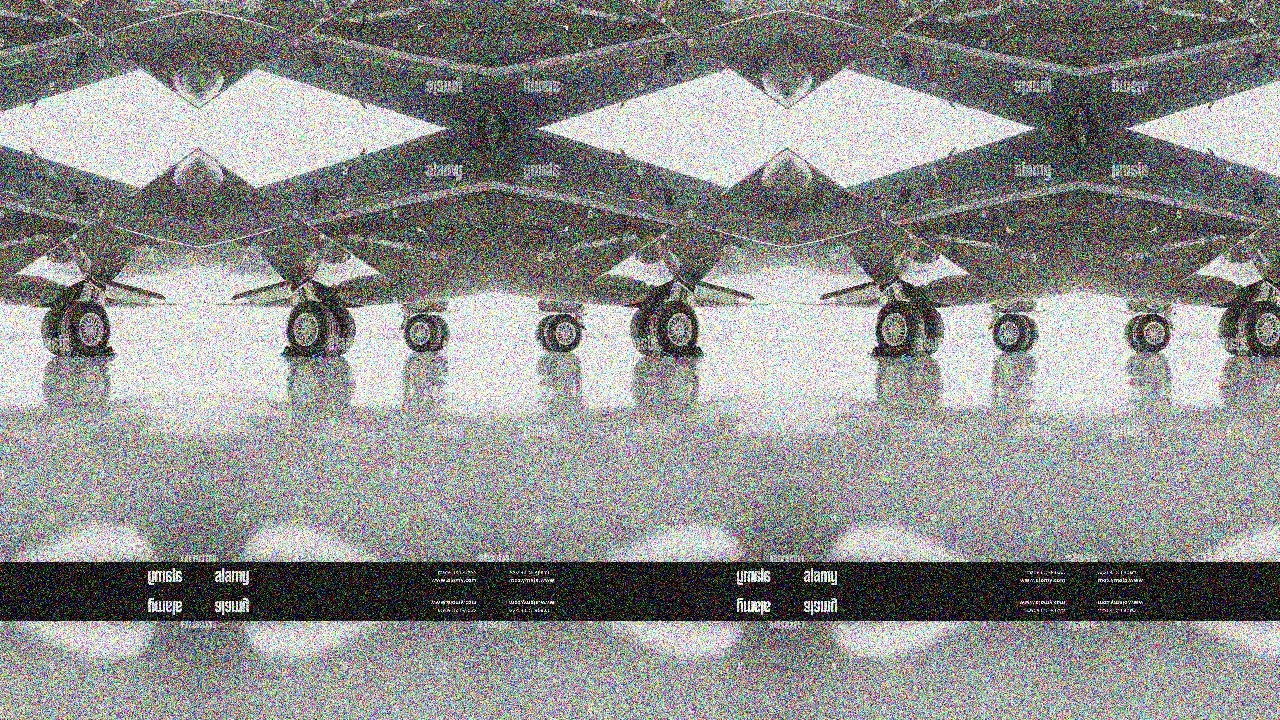chock: (56, 345, 83, 360), (313, 345, 340, 360), (645, 345, 672, 360), (903, 345, 929, 360), (1235, 345, 1261, 360), (869, 344, 893, 356), (93, 344, 116, 356), (280, 344, 303, 356), (682, 344, 705, 356), (1271, 344, 1280, 356)
wheel: (62, 301, 111, 355), (285, 301, 334, 355), (874, 301, 923, 355), (652, 301, 700, 355), (1241, 301, 1280, 355), (403, 313, 449, 352), (537, 313, 583, 352), (992, 313, 1038, 352), (1126, 313, 1172, 352), (41, 304, 74, 355), (322, 304, 355, 355), (630, 304, 663, 355), (912, 304, 944, 355), (1220, 304, 1252, 355), (427, 315, 450, 350), (535, 315, 558, 350), (1016, 315, 1039, 350), (1125, 315, 1148, 350)
